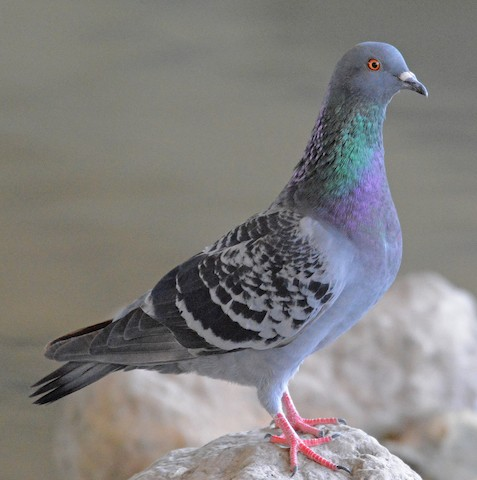pigeon: (29, 39, 434, 475)
